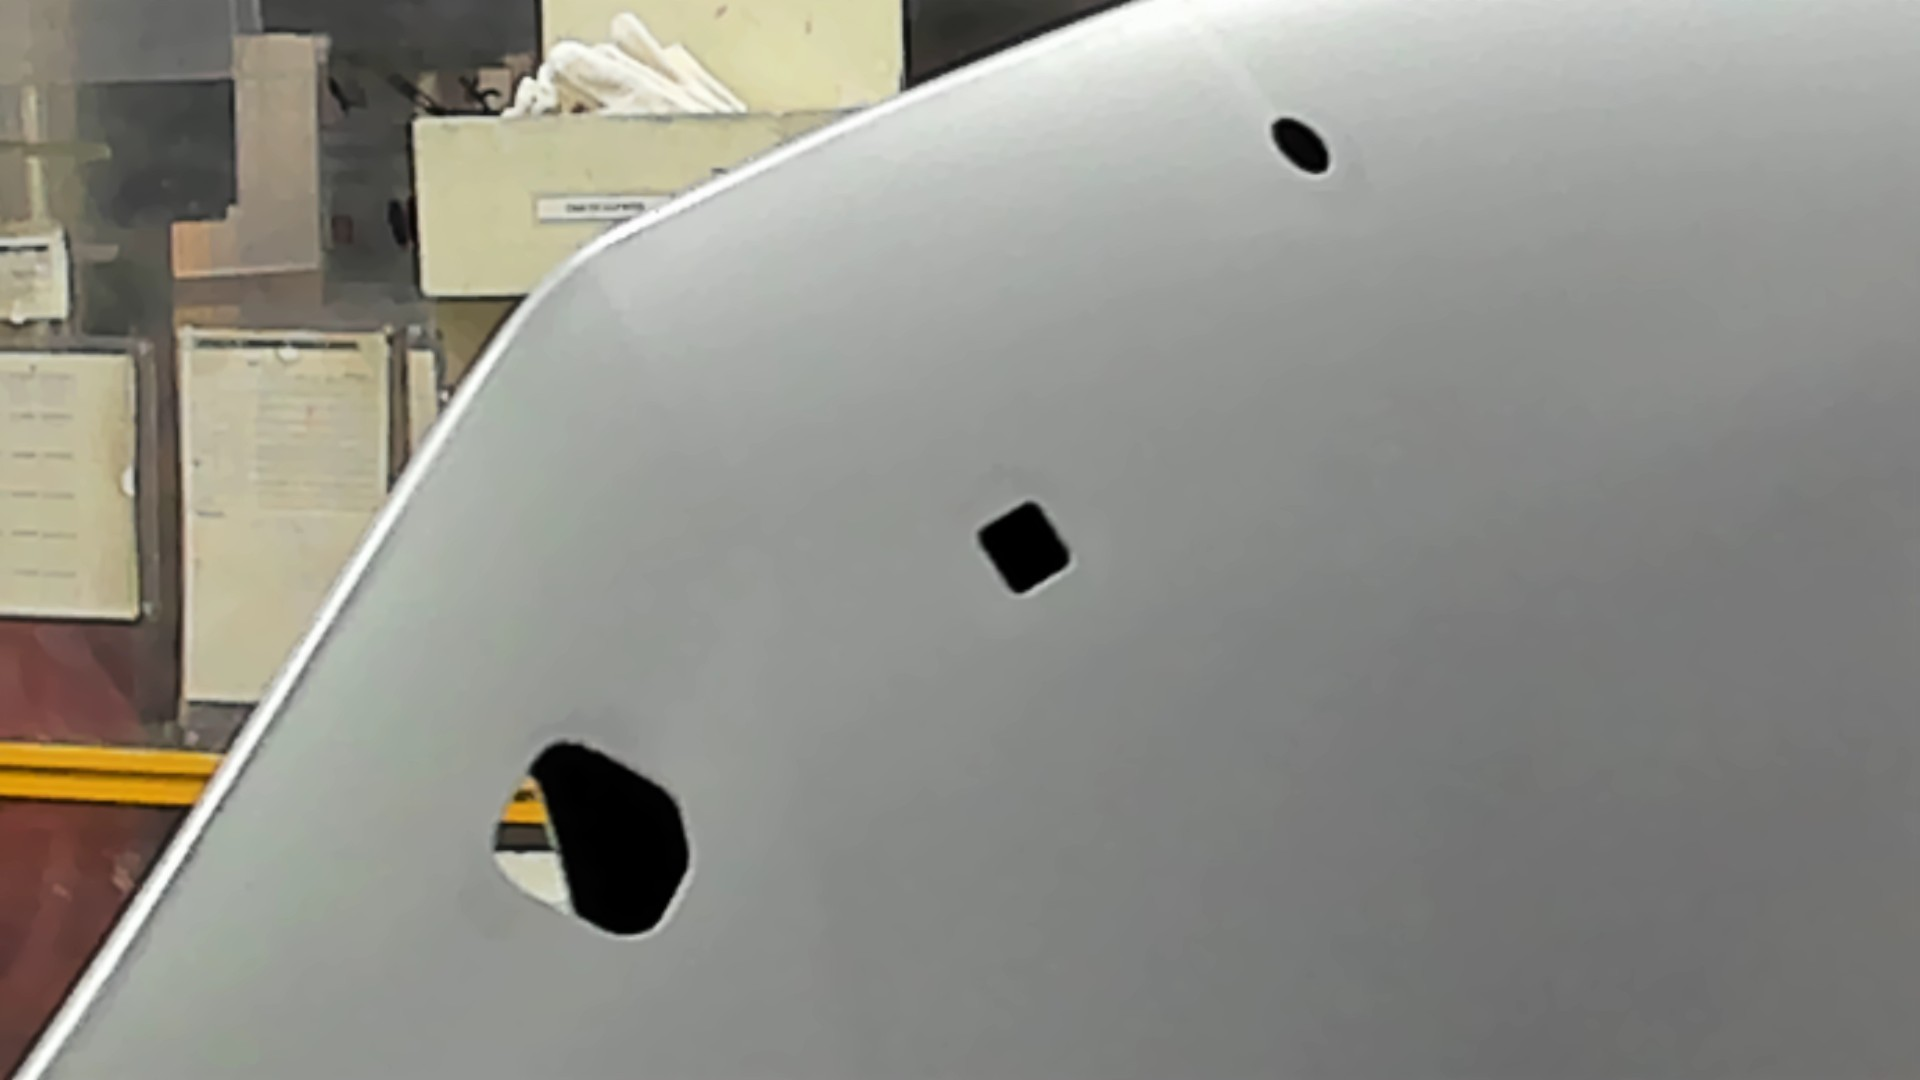capo: (1080, 182, 1920, 1080)
chico: (1269, 113, 1333, 177)
grande: (487, 735, 698, 944)
mediano: (967, 495, 1084, 605)
